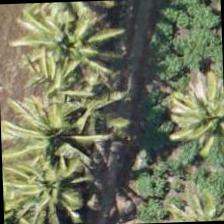Kelapa_Sawit: (10, 82, 103, 176), (22, 0, 115, 87), (12, 147, 106, 223), (155, 64, 223, 157)
